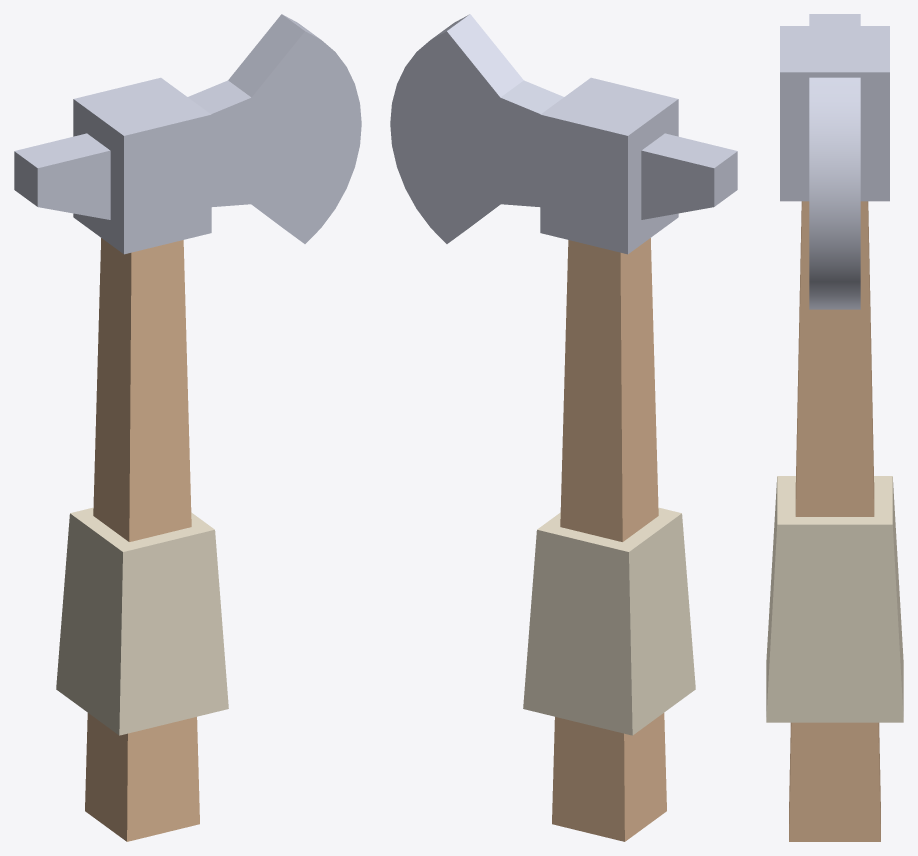
Rendered from toolAxe.glb.
The picture shows the model from 3 angles, left to right: view 1: azimuth 30°, elevation 25°; view 2: azimuth 150°, elevation 25°; view 3: azimuth 270°, elevation 25°; orthographic projection. The views are drawn at different scales.
Parts seen in each view (by area): view 1: toolAxe; view 2: toolAxe; view 3: toolAxe.
Part boxes in pixels (x1,y1,x2,y2): toolAxe: (14, 14, 361, 841); toolAxe: (390, 14, 737, 841); toolAxe: (766, 14, 903, 841).
Size of the model in its own units: 0.4579 by 1.02 by 0.1548.
